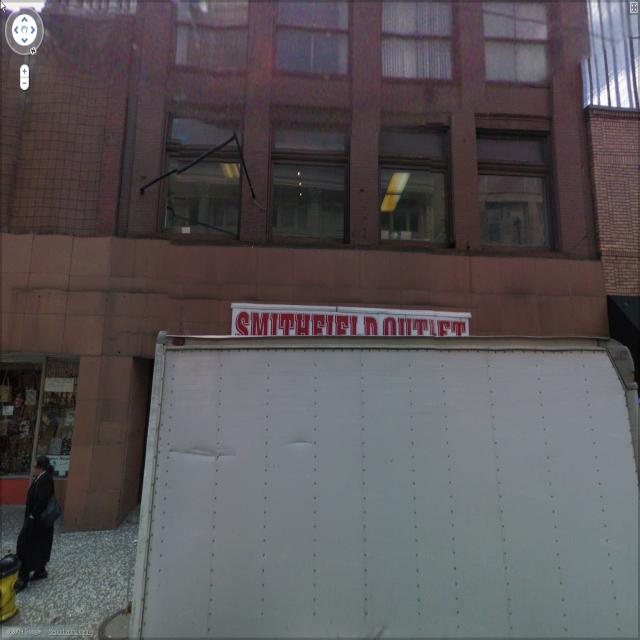b_1: (11, 1, 640, 391)
